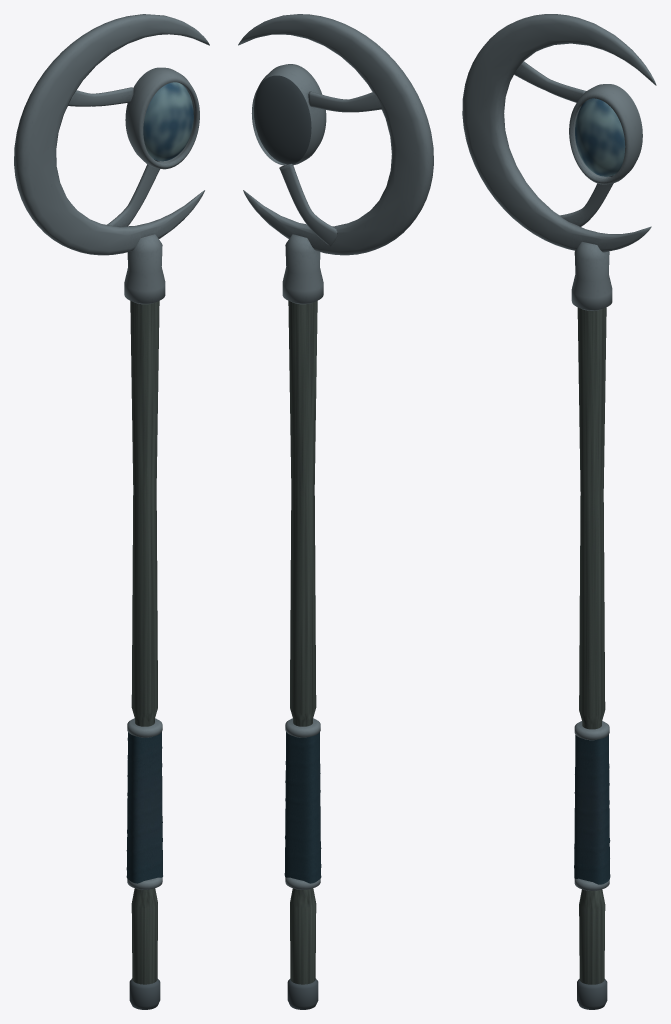
Rendered from moonstaff.glb.
The picture shows the model from 3 angles, left to right: view 1: azimuth 30°, elevation 25°; view 2: azimuth 150°, elevation 25°; view 3: azimuth 330°, elevation 25°; orthographic projection.
Visible parts, largest first — view 1: moonstaff_Baked.003 export; view 2: moonstaff_Baked.003 export; view 3: moonstaff_Baked.003 export.
Part boxes in pixels (x1,y1,x2,y2): moonstaff_Baked.003 export: (14,14,209,1009); moonstaff_Baked.003 export: (238,14,433,1009); moonstaff_Baked.003 export: (462,14,656,1009).
Bounding box in the file's own units: 0.3054 × 1.5 × 0.067.
Materials: 1 (1 with a texture image).
